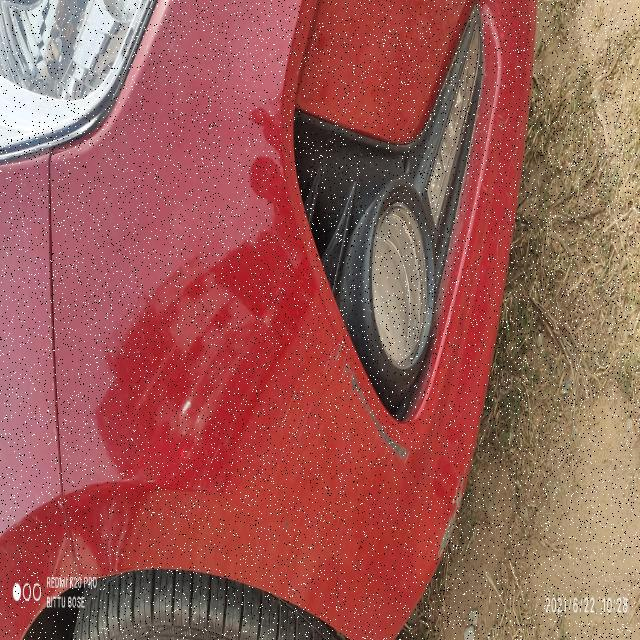front-bumper-dent: (166, 283, 476, 639)
